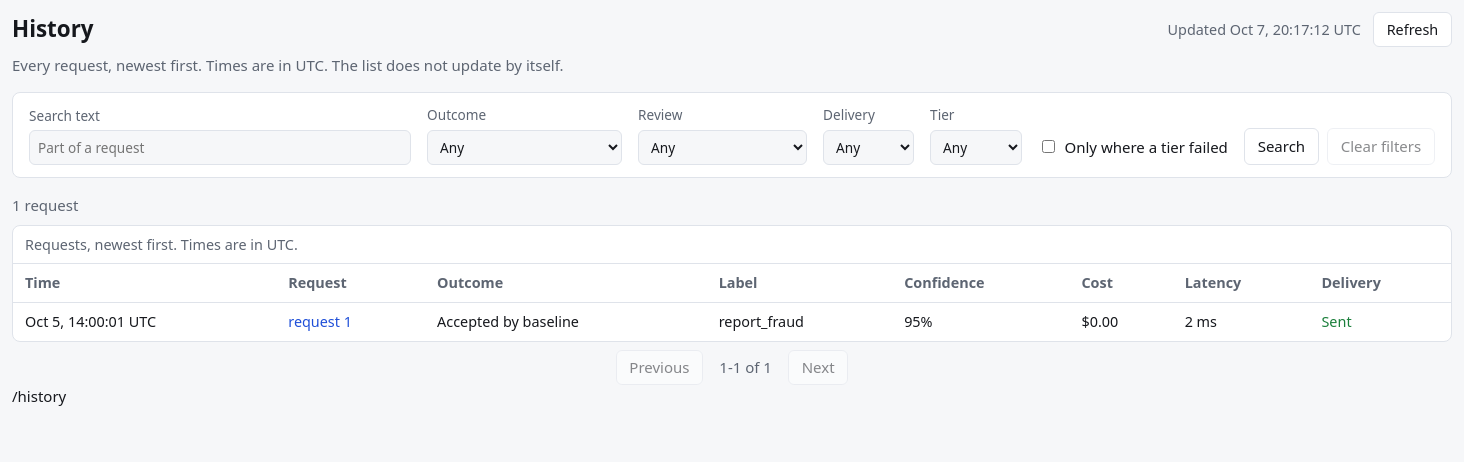
it: refreshing › does not refresh by itself, but has a Refresh button
Check: the text "1 request" is shown, box [12,195,78,215]
Check: the text "Updated Oct 7, 20:17:12 UTC" is shown, box [1168,19,1361,40]
Click the button "Refresh" at (1412, 29), box [1373,12,1452,47]
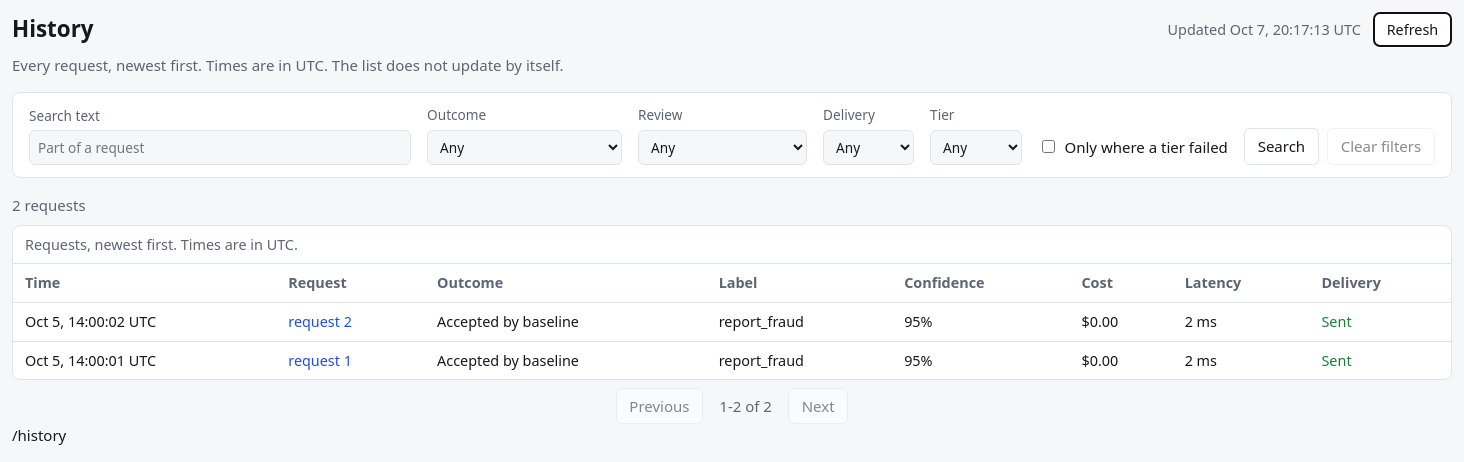
Check: the text "2 requests" is shown, box [12,195,86,215]
